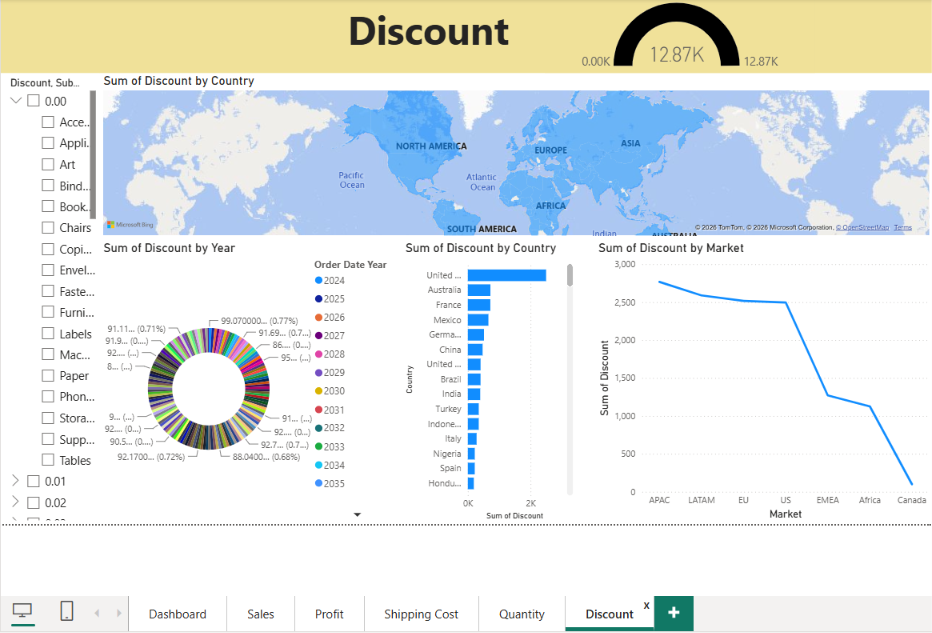

This screenshot's page, from the dashboard's own definition file:
{"tool":"powerbi","page":{"name":"Discount","canvas":[1280,720],"ordinal":5},"visuals":[{"type":"textbox","box":[0,0,1280,101.5],"z":0},{"type":"gauge","fields":{"Y":["Sum(New_Visualized_Sales.Discount)"]},"box":[746.2,0,370.8,101.5],"z":1000},{"type":"slicer","fields":{"Values":["New_Visualized_Sales.Discount","New_Visualized_Sales.Sub-Category"]},"box":[0,101.5,135.4,618.5],"z":2000},{"type":"filledMap","fields":{"Category":["New_Visualized_Sales.Country"]},"box":[135.4,101.5,1144.6,227.7],"z":3000},{"type":"lineChart","fields":{"Category":["New_Visualized_Sales.Market"],"Y":["Sum(New_Visualized_Sales.Discount)"]},"box":[815.4,330.8,464.6,389.2],"z":4000},{"type":"donutChart","fields":{"Category":["New_Visualized_Sales.Order Date.Variation.Date Hierarchy.Year","New_Visualized_Sales.Order Date.Variation.Date Hierarchy.Quarter","New_Visualized_Sales.Order Date.Variation.Date Hierarchy.Month","New_Visualized_Sales.Order Date.Variation.Date Hierarchy.Day"],"Y":["Sum(New_Visualized_Sales.Discount)"]},"box":[135.4,330.8,415.4,389.2],"z":5000},{"type":"clusteredBarChart","fields":{"Category":["New_Visualized_Sales.Country"],"Y":["Sum(New_Visualized_Sales.Discount)"]},"box":[550.8,330.8,240,389.2],"z":6000}]}

Visuals, with their boxes on the page's 1280x720 design canvas (x1, y1, x2, y2). These are canvas units, not pixel positions in the 932x633 screenshot, which may show the page scaled, cropped or inside an application window:
textbox: <bbox>0, 0, 1280, 102</bbox>
gauge - Sum(New_Visualized_Sales.Discount): <bbox>746, 0, 1117, 102</bbox>
slicer - New_Visualized_Sales.Discount x New_Visualized_Sales.Sub-Category: <bbox>0, 102, 135, 720</bbox>
filledMap - New_Visualized_Sales.Country: <bbox>135, 102, 1280, 329</bbox>
lineChart - New_Visualized_Sales.Market x Sum(New_Visualized_Sales.Discount): <bbox>815, 331, 1280, 720</bbox>
donutChart - New_Visualized_Sales.Order Date.Variation.Date Hierarchy.Year x New_Visualized_Sales.Order Date.Variation.Date Hierarchy.Quarter: <bbox>135, 331, 551, 720</bbox>
clusteredBarChart - New_Visualized_Sales.Country x Sum(New_Visualized_Sales.Discount): <bbox>551, 331, 791, 720</bbox>
